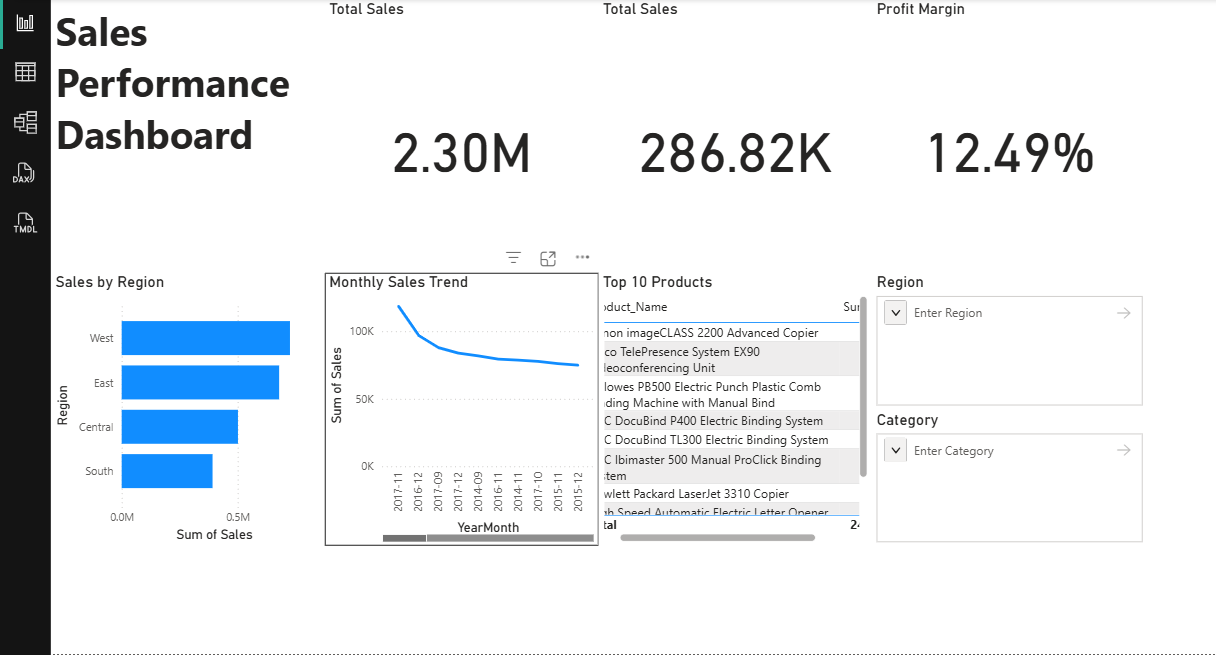

This screenshot's page, from the dashboard's own definition file:
{"tool":"powerbi","page":{"name":"Page 1","canvas":[1280,720],"ordinal":0},"visuals":[{"type":"card","title":"Total Sales","fields":{"Values":["Sum(SalesData.Sales)"]},"box":[300.5,0,300.5,300.5],"z":0},{"type":"card","title":"Total Sales","fields":{"Values":["Sum(SalesData.Profit)"]},"box":[601,0,300.5,300.5],"z":1},{"type":"card","title":"Profit Margin","fields":{"Values":["SalesData.Profit Margin"]},"box":[901.5,0,300.5,300.5],"z":2},{"type":"clusteredBarChart","title":"Sales by Region","fields":{"Category":["SalesData.Region"],"Y":["Sum(SalesData.Sales)"]},"box":[0,300.5,300.5,300.5],"z":4},{"type":"lineChart","title":"Monthly Sales Trend","fields":{"Category":["SalesData.YearMonth"],"Y":["Sum(SalesData.Sales)"]},"box":[300.5,300.5,300.5,300.5],"z":5},{"type":"tableEx","title":"Top 10 Products","fields":{"Values":["SalesData.Product_Name","Sum(SalesData.Sales)"]},"box":[601,300.5,300.5,300.5],"z":6},{"type":"textbox","box":[0,0,301,301],"z":9},{"type":"textSlicer","fields":{"Values":["SalesData.Region"]},"box":[901.5,300.5,301.9,150.9],"z":10},{"type":"textSlicer","fields":{"Values":["SalesData.Category"]},"box":[901.5,451.5,301.9,149.6],"z":11}]}

Visuals, with their boxes on the page's 1280x720 design canvas (x1, y1, x2, y2). These are canvas units, not pixel positions in the 1216x655 screenshot, which may show the page scaled, cropped or inside an application window:
"Total Sales" card: <box>300,0,601,300</box>
"Total Sales" card: <box>601,0,902,300</box>
"Profit Margin" card: <box>902,0,1202,300</box>
"Sales by Region" clusteredBarChart: <box>0,300,300,601</box>
"Monthly Sales Trend" lineChart: <box>300,300,601,601</box>
"Top 10 Products" tableEx: <box>601,300,902,601</box>
textbox: <box>0,0,301,301</box>
textSlicer - SalesData.Region: <box>902,300,1203,451</box>
textSlicer - SalesData.Category: <box>902,452,1203,601</box>
